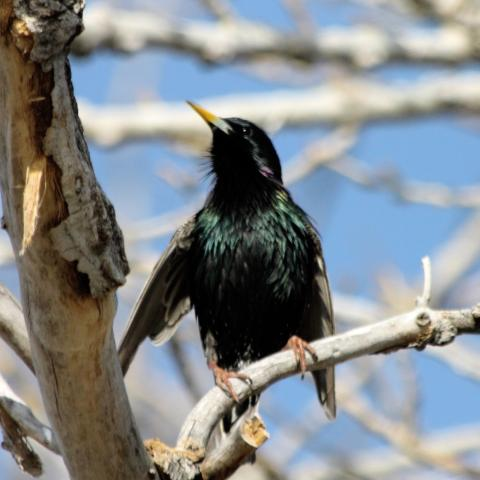bird: (116, 97, 340, 434)
